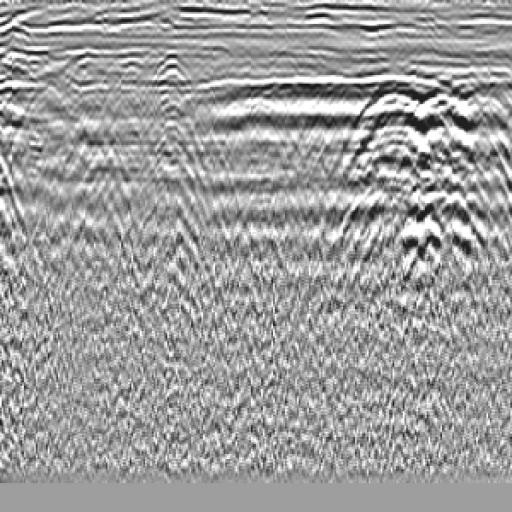non-metallic: (318, 55, 485, 329)
